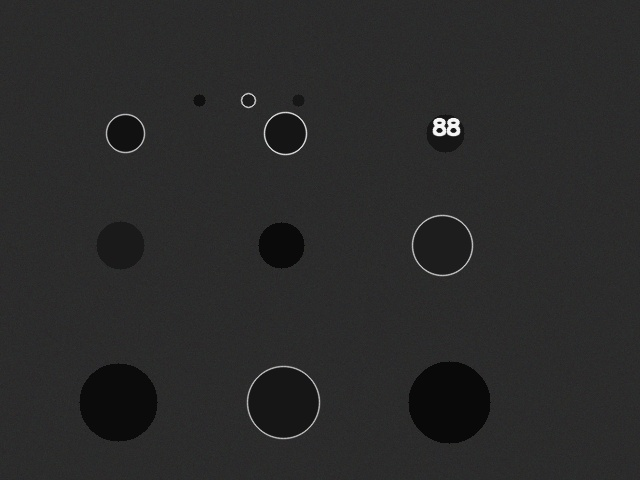hole: (408, 361, 490, 443), (79, 363, 157, 441), (247, 366, 319, 438), (412, 215, 472, 275), (96, 221, 144, 269), (258, 222, 304, 268), (264, 112, 306, 154), (106, 114, 144, 152), (426, 114, 464, 152), (241, 93, 255, 107), (193, 94, 205, 106), (292, 94, 304, 106)
